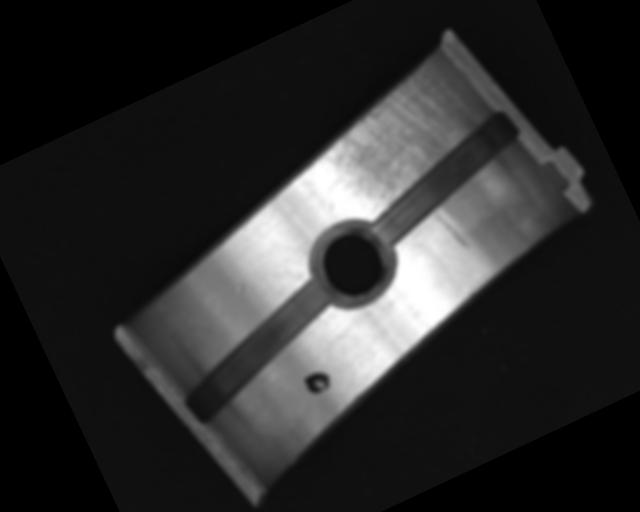blot: (300, 365, 335, 399)
bruise: (234, 281, 248, 296)
gap: (160, 273, 357, 427), (348, 107, 538, 250)
hole: (298, 209, 407, 319)
nick: (431, 201, 470, 256), (275, 231, 312, 266)
scratch: (292, 45, 499, 228)
